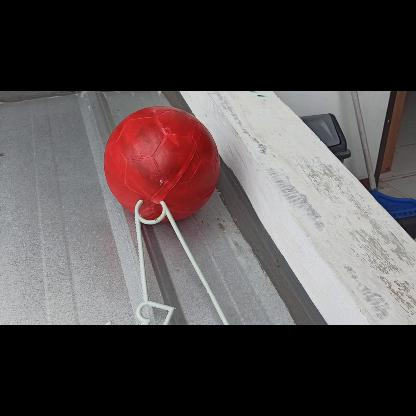red_ball: (102, 105, 220, 223)
